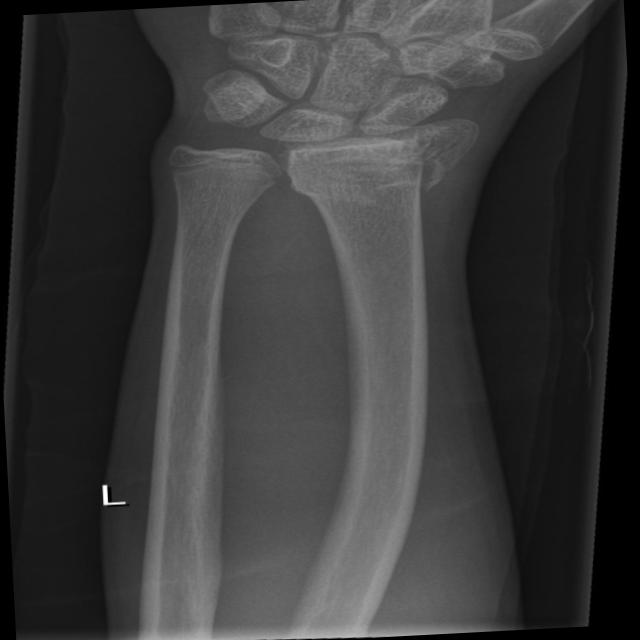fracture: (266, 136, 490, 202), (158, 146, 284, 200)
